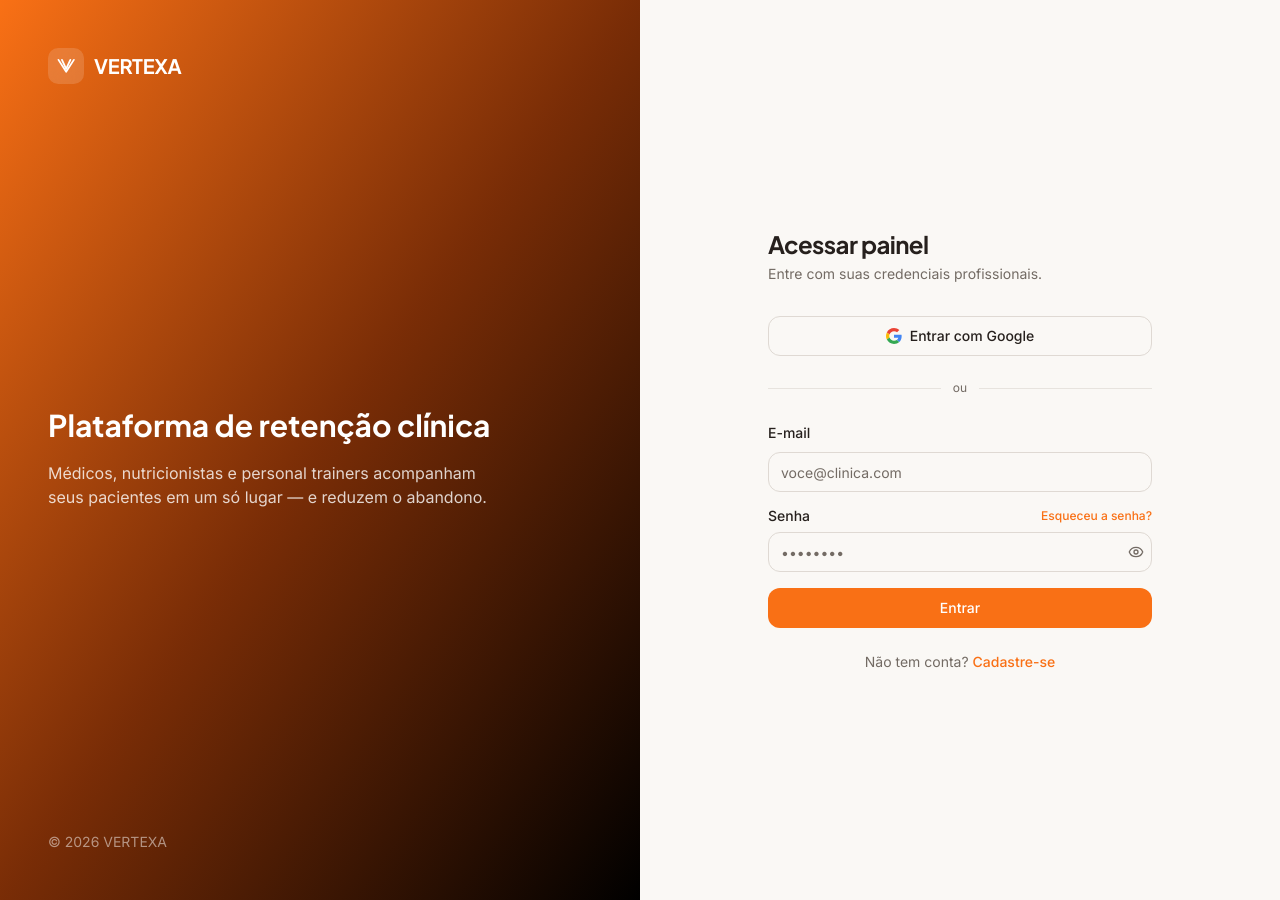
Scenario: LoginPage — AUTH-03R › R17 — Cadastre-se continua sem signup real
Step 1. Click the button "Cadastre-se" → (1014,662), box [972,652,1055,672]
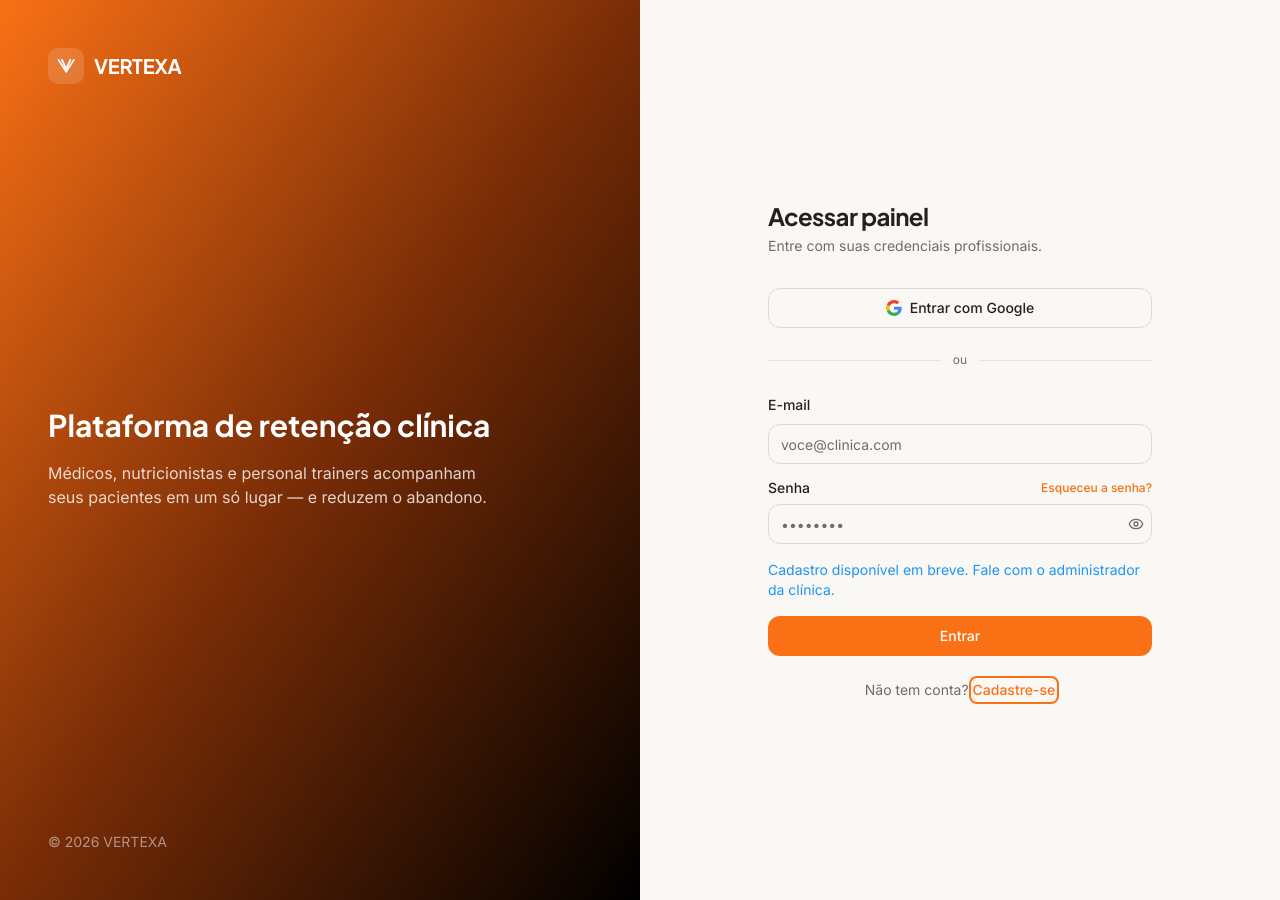
Result: the text "Cadastro disponível em breve. Fale com o administrador da clínica." is shown at [768,560,1152,600]
